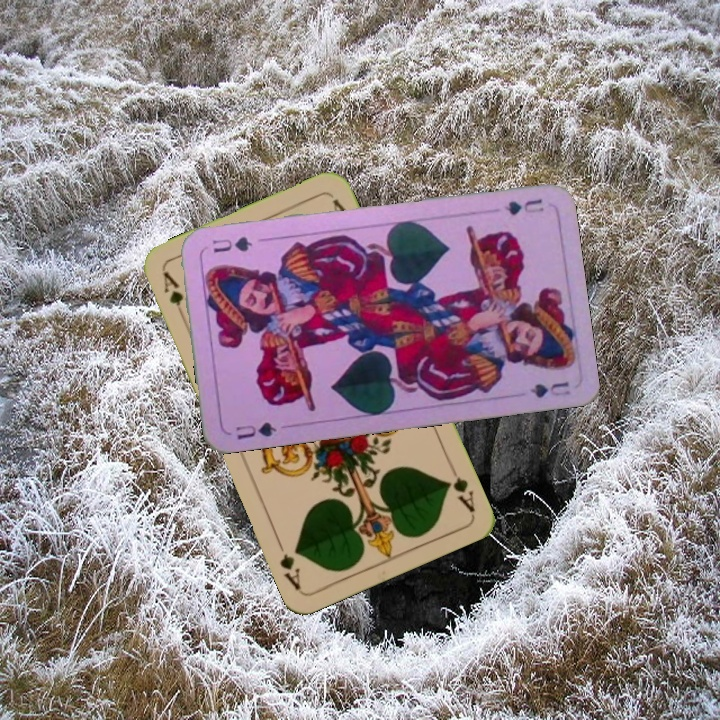GA: (440, 459, 478, 515), (159, 267, 189, 324)
GU: (232, 417, 280, 443), (500, 194, 547, 218)
